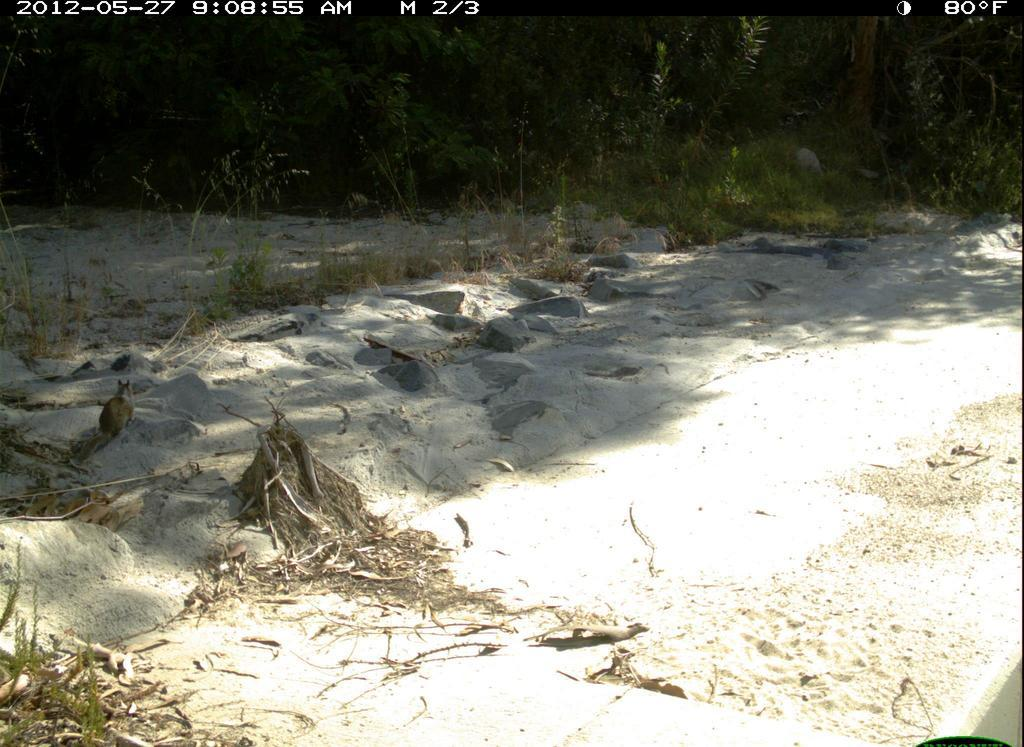squirrel: (75, 377, 139, 470)
